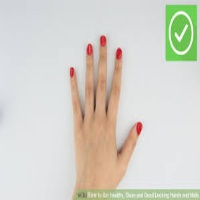ring: (84, 39, 96, 123)
